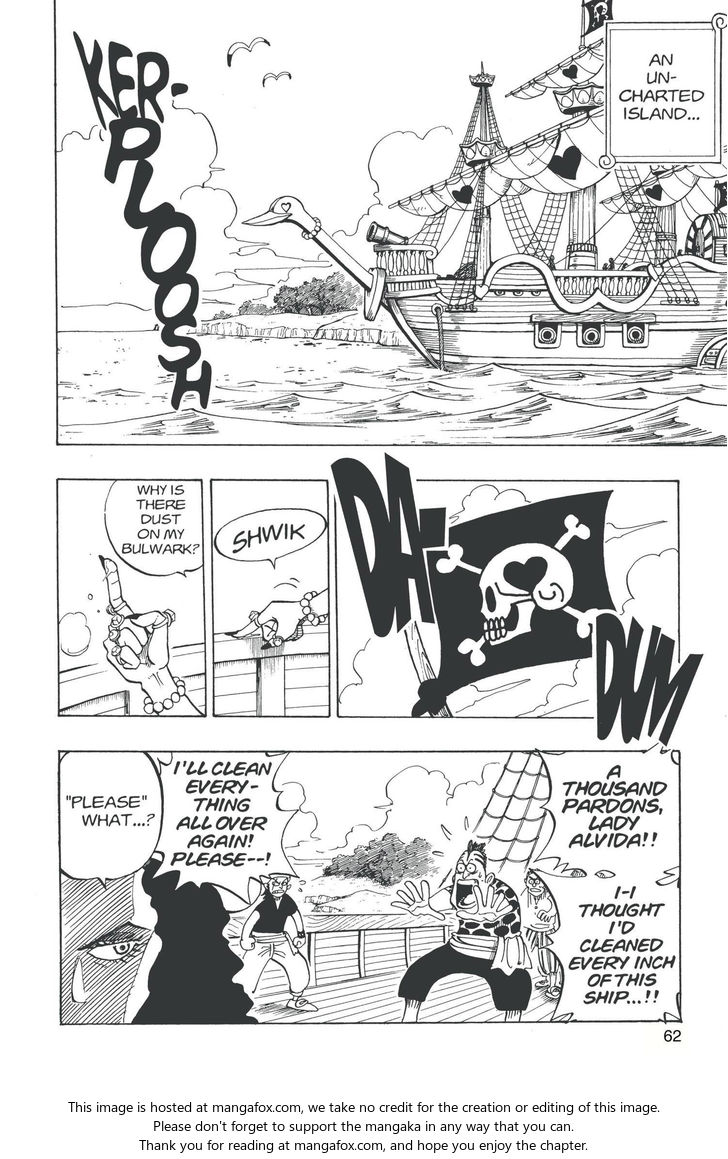bubble: (532, 869, 682, 1022), (153, 752, 299, 904), (535, 742, 681, 875), (608, 26, 719, 161), (59, 751, 164, 888), (104, 479, 203, 576), (216, 509, 327, 568)
